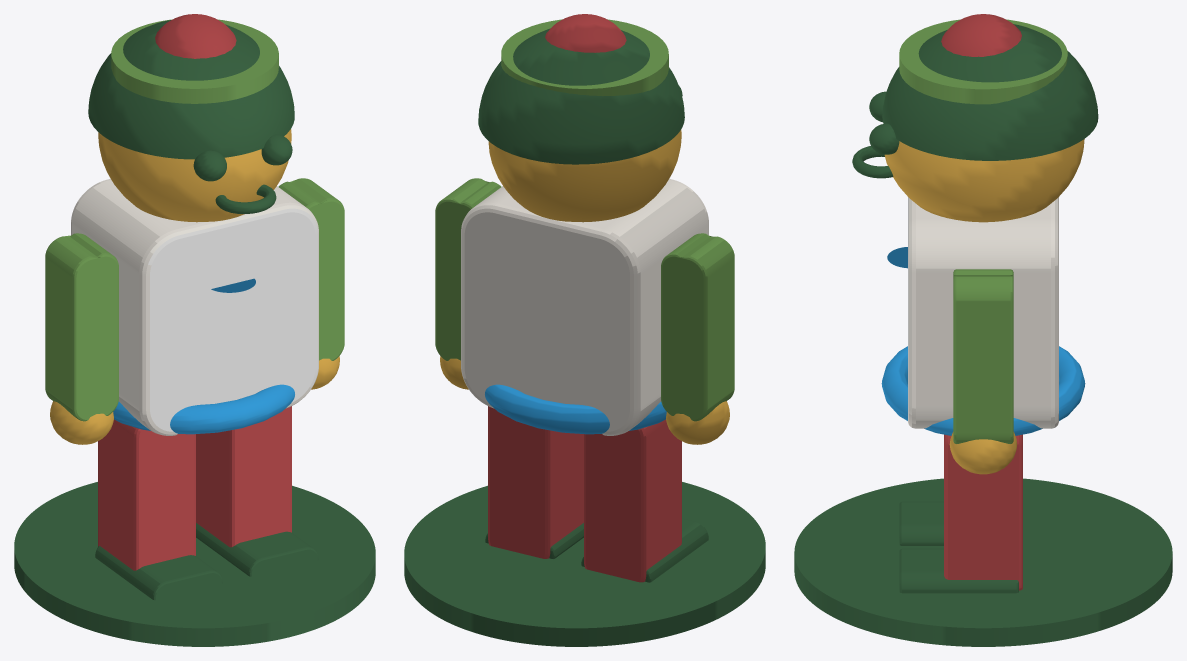
3 renders of one model, left to right at view 1: azimuth 30°, elevation 25°; view 2: azimuth 150°, elevation 25°; view 3: azimuth 270°, elevation 25°, orthographic.
Visible parts, largest first — view 1: card_1134; view 2: card_1134; view 3: card_1134.
Part boxes in pixels (x1,y1,x2,y2): card_1134: (14,14,375,646); card_1134: (404,14,765,646); card_1134: (794,14,1172,646).
Size of the model in its own units: 0.5877 by 1 by 0.6201.
